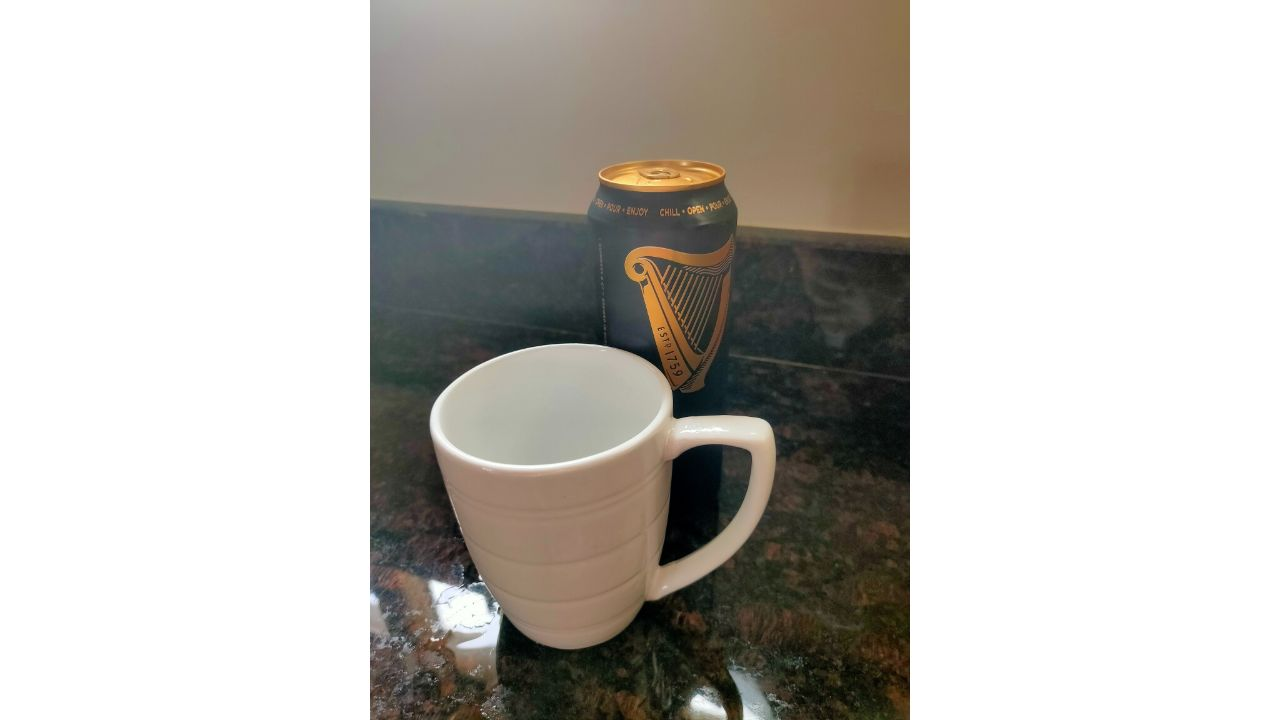Can: (588, 164, 739, 509)
